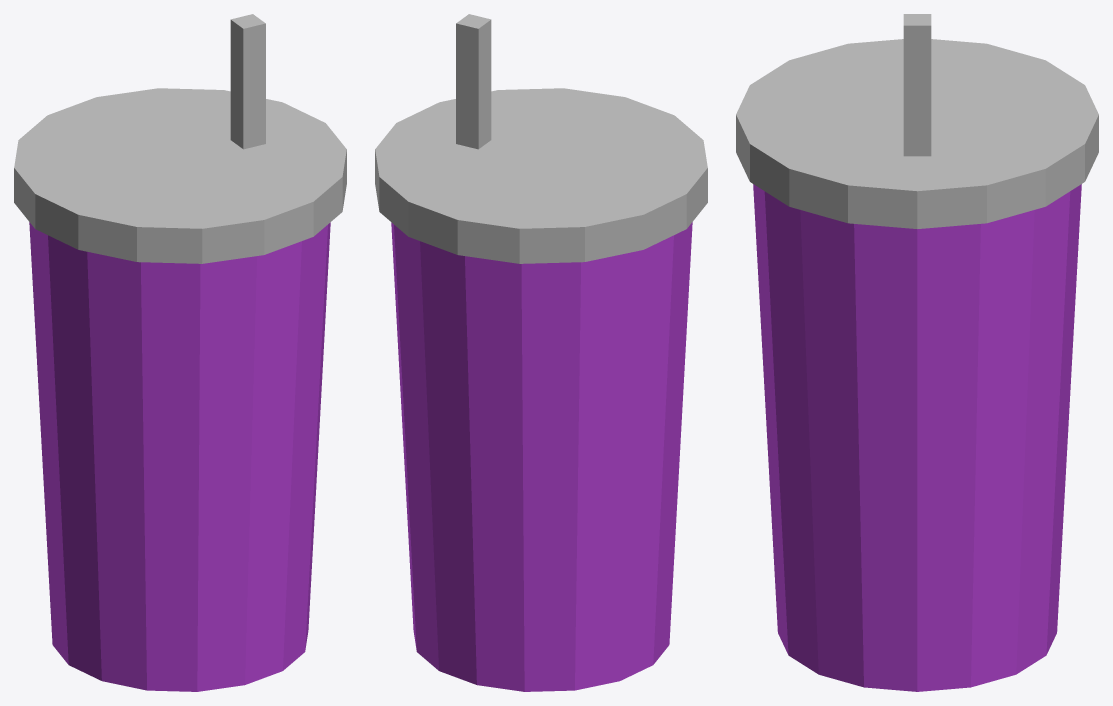
Rendered from kubek.glb.
The picture shows the model from 3 angles, left to right: view 1: azimuth 30°, elevation 25°; view 2: azimuth 150°, elevation 25°; view 3: azimuth 270°, elevation 25°; orthographic projection. The views are drawn at different scales.
Visible parts, largest first — view 1: kubek, Cylinder, rurka; view 2: kubek, Cylinder, rurka; view 3: kubek, Cylinder, rurka.
Part boxes in pixels (x1=…): kubek: x1=29, y1=222, x2=330, y2=691; Cylinder: x1=14, y1=88, x2=346, y2=263; rurka: x1=230, y1=14, x2=265, y2=149; kubek: x1=391, y1=222, x2=692, y2=691; Cylinder: x1=375, y1=88, x2=707, y2=263; rurka: x1=456, y1=14, x2=491, y2=149; kubek: x1=753, y1=184, x2=1081, y2=691; Cylinder: x1=736, y1=39, x2=1098, y2=228; rurka: x1=903, y1=14, x2=931, y2=156.
Size of the model in its own units: 0.26 by 0.5129 by 0.26.
